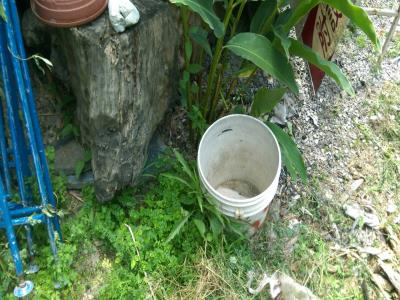bucket: (194, 111, 283, 236)
